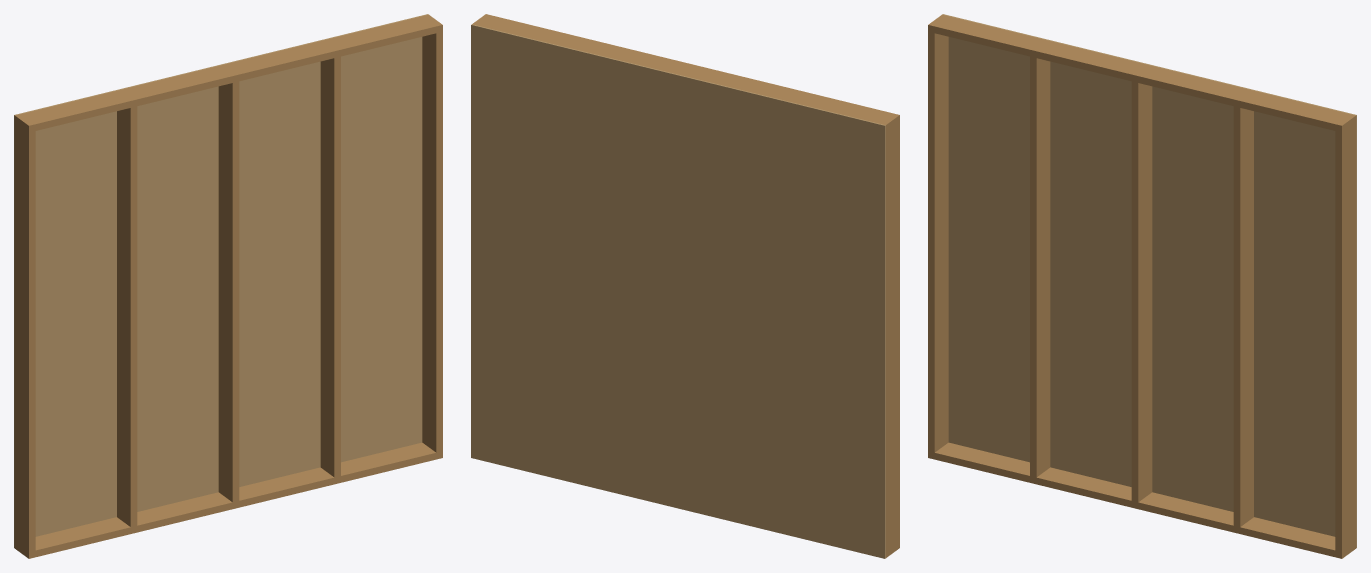
Rendered from structure.assembly.timber_panel_2400.glb.
3 renders of one model, left to right at view 1: azimuth 30°, elevation 25°; view 2: azimuth 150°, elevation 25°; view 3: azimuth 330°, elevation 25°, orthographic.
Visible parts, largest first — view 1: main__plywood, main__softwood; view 2: main__plywood, main__softwood; view 3: main__plywood, main__softwood.
Boxes of the visible parts, x1,y1,x2,y2 form: main__plywood: (14,14,428,548); main__softwood: (15,14,442,558); main__plywood: (471,24,885,558); main__softwood: (472,14,899,557); main__plywood: (942,14,1356,548); main__softwood: (928,14,1355,558).
Size of the model in its own units: 2.4 by 2.4 by 0.149.
